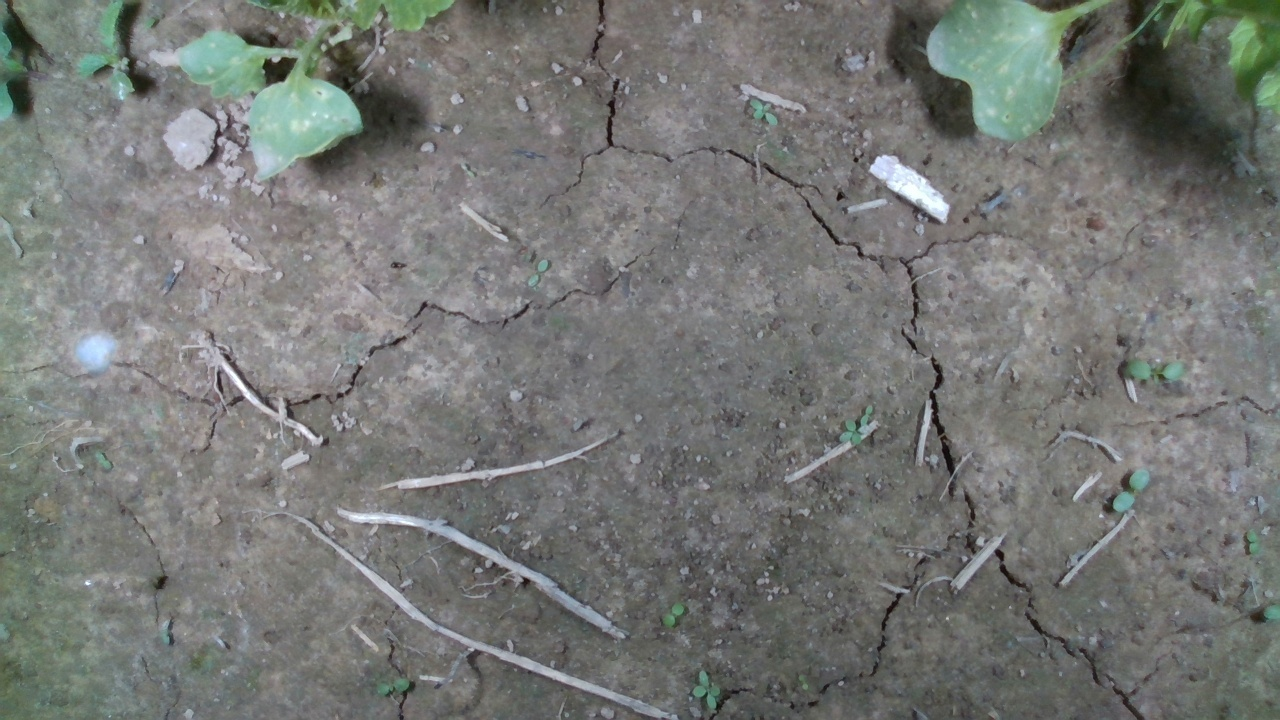weed: (1111, 467, 1147, 514), (689, 667, 720, 711), (1126, 360, 1183, 381), (748, 97, 779, 126), (373, 674, 409, 698), (661, 601, 685, 630), (1247, 527, 1258, 554)
